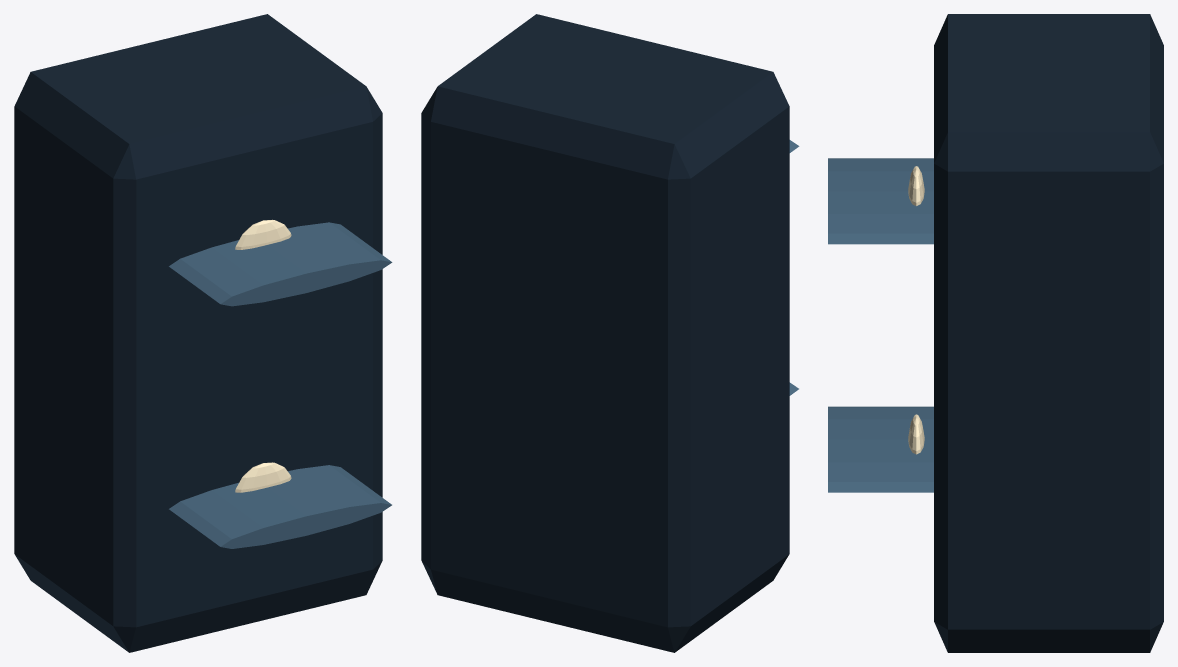
The model's file is speaker.glb.
3 renders of one model, left to right at view 1: azimuth 30°, elevation 25°; view 2: azimuth 150°, elevation 25°; view 3: azimuth 270°, elevation 25°, orthographic. The views are drawn at different scales.
Parts seen in each view (by area): view 1: cabinet.001; view 2: cabinet.001; view 3: cabinet.001.
Part boxes in pixels (x1,y1,x2,y2): cabinet.001: (14, 14, 392, 652); cabinet.001: (421, 14, 799, 652); cabinet.001: (828, 14, 1163, 652).
Bounding box in the file's own units: 0.72 × 1.3 × 0.76.
